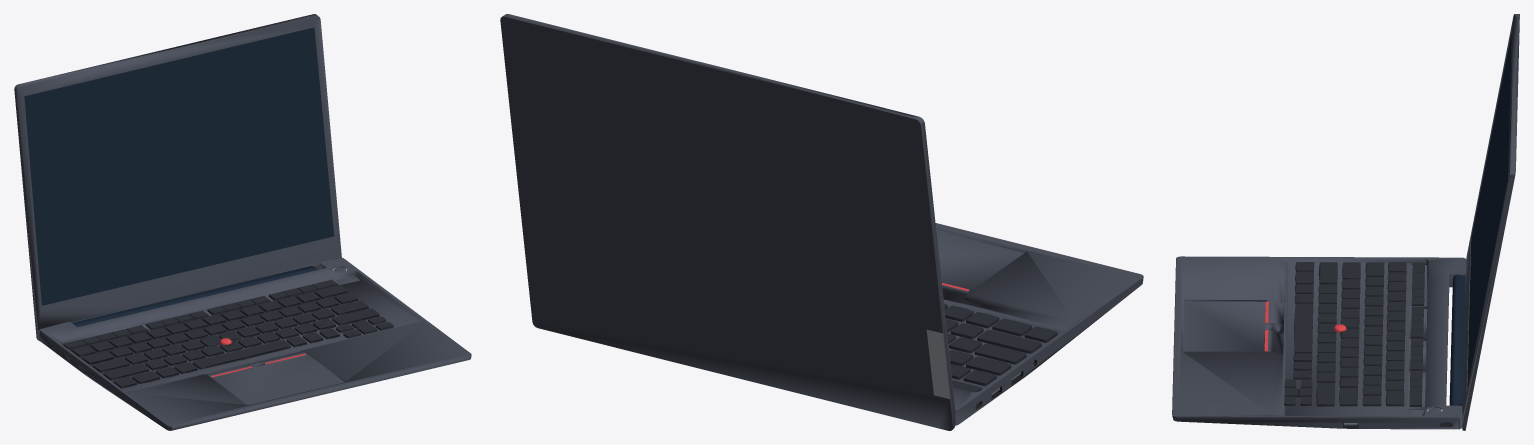
Rendered from laptop_model.glb.
3 renders of one model, left to right at view 1: azimuth 30°, elevation 25°; view 2: azimuth 150°, elevation 25°; view 3: azimuth 270°, elevation 25°, orthographic. The views are drawn at different scales.
Parts seen in each view (by area): view 1: laptop_screen, laptop_base, laptop_lid; view 2: laptop_lid, laptop_base; view 3: laptop_base, laptop_screen, laptop_lid.
Boxes of the visible parts, x1,y1,x2,y2 form: laptop_screen: [24, 27, 333, 326]; laptop_base: [39, 257, 471, 430]; laptop_lid: [14, 14, 341, 340]; laptop_lid: [500, 14, 955, 430]; laptop_base: [935, 223, 1143, 425]; laptop_base: [1172, 256, 1466, 429]; laptop_screen: [1449, 31, 1511, 405]; laptop_lid: [1462, 14, 1519, 430].
Size of the model in its own units: 0.3034 by 0.2279 by 0.2763.
2 materials, 1 textured.
